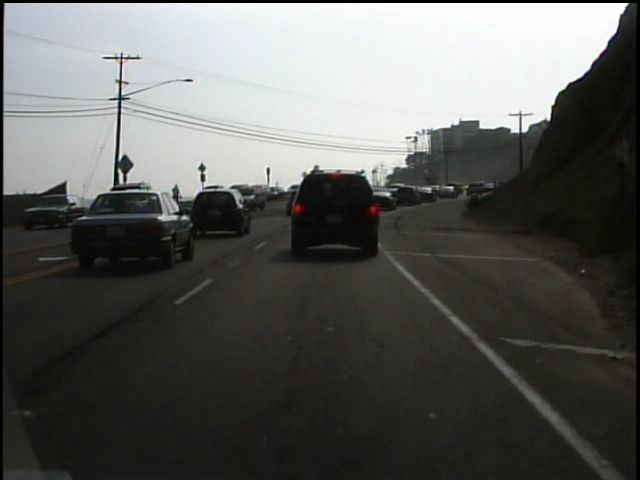person: (168, 181, 184, 211)
